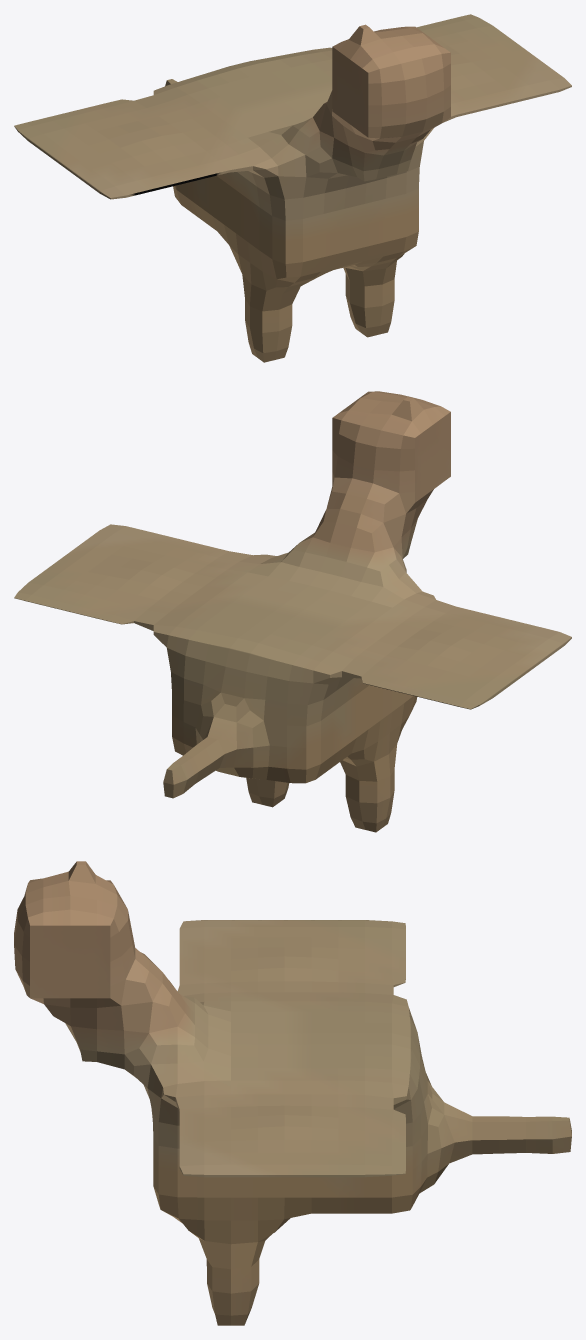
Rendered from dragonKing.glb.
3 views of the same model, one above another, from view 1: azimuth 30°, elevation 25°; view 2: azimuth 150°, elevation 25°; view 3: azimuth 270°, elevation 25° (orthographic). The views are drawn at different scales.
Parts seen in each view (by area): view 1: geometry_0; view 2: geometry_0; view 3: geometry_0.
Part boxes in pixels (x1,y1,x2,y2): geometry_0: (14, 14, 571, 362); geometry_0: (14, 391, 571, 832); geometry_0: (14, 861, 571, 1325).
Bounding box in the file's own units: 1.25 × 0.9519 × 1.16.
Materials: 1 (1 with a texture image).
